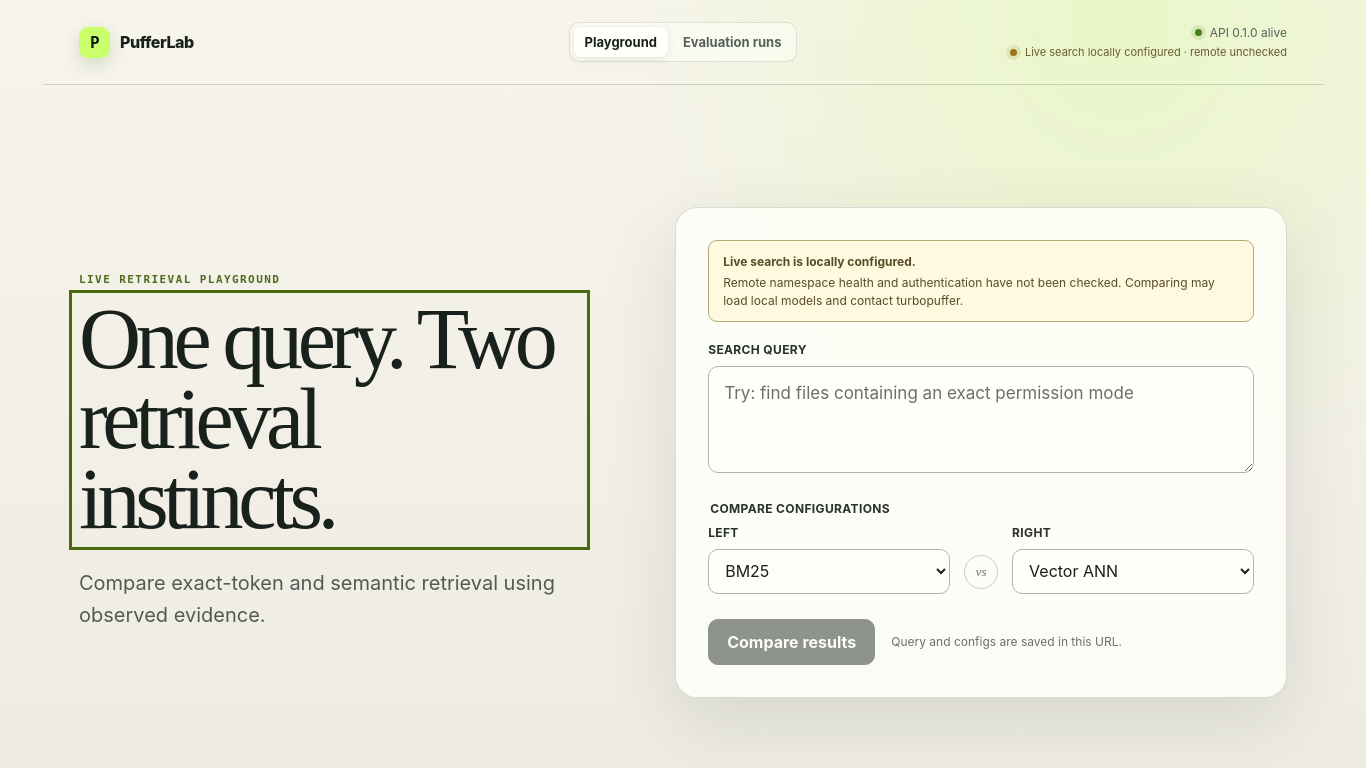
Test: App playground › loads seeded configs and renders typed BM25 and vector evidence
Expected: the heading "One query. Two retrieval instincts." is shown, 79,300 -> 580,540
Expected: the button "Compare results" is disabled, 708,619 -> 875,665
Type "permission mode" into the text box labelled "Search query" at (981, 419), box 708,366 -> 1254,473
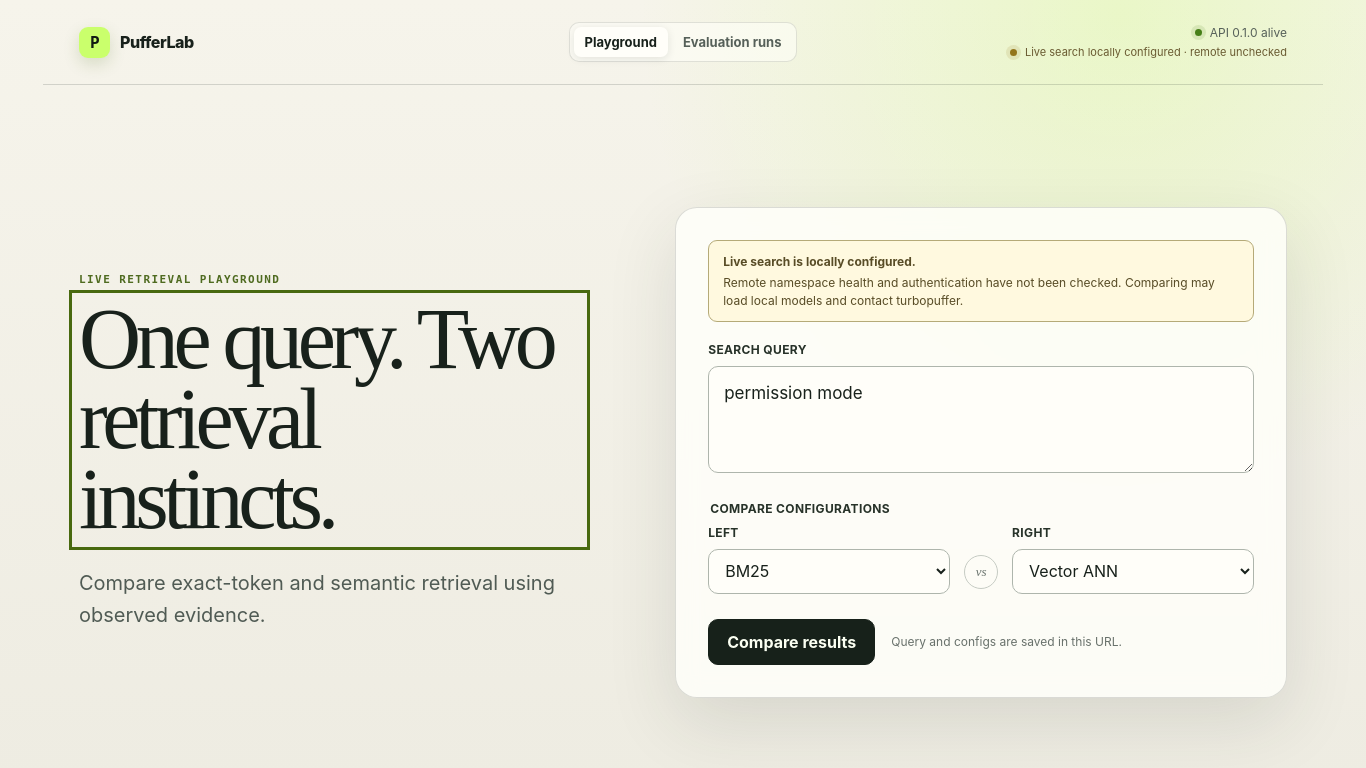
Click the button "Compare results" at (792, 642), box 708,619 -> 875,665
(page scrolled)
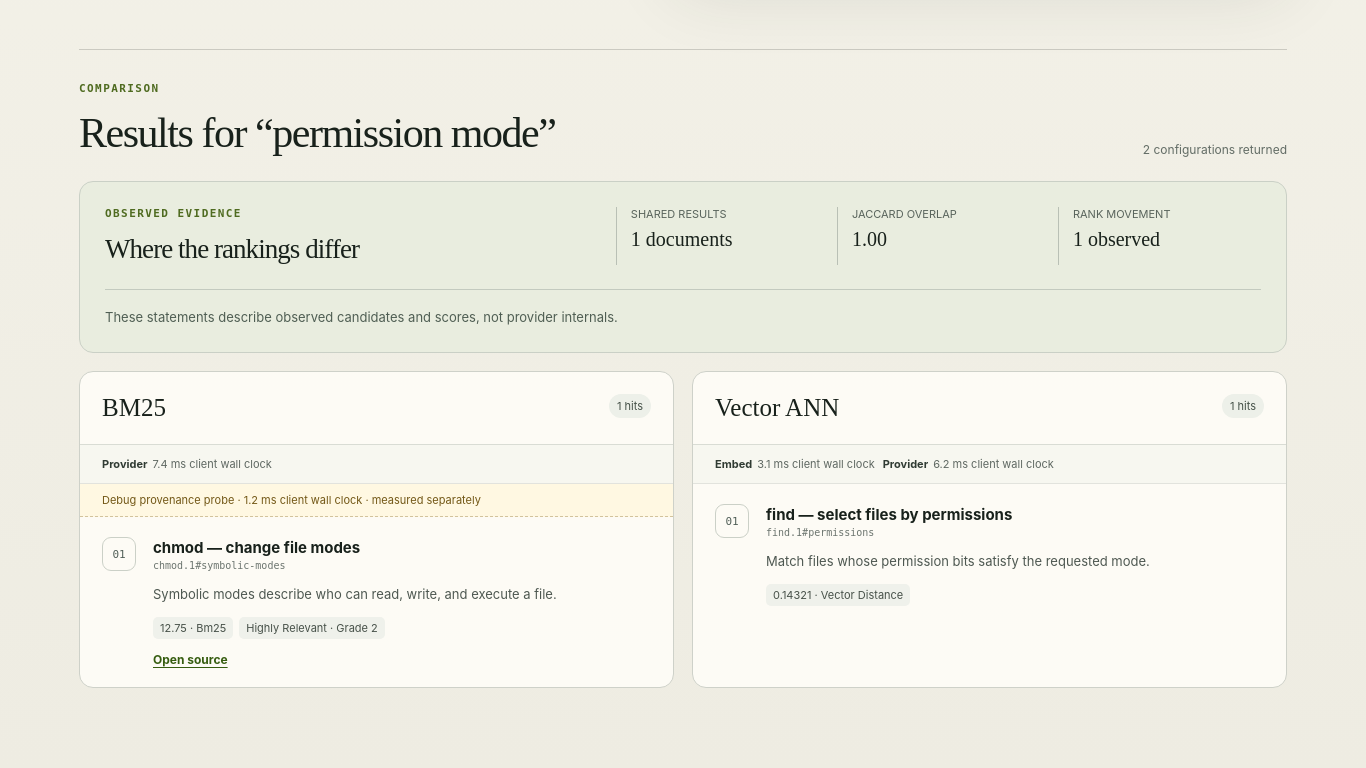
Result: the heading "Results for “permission mode”" is shown at 79,109 -> 556,157
Result: the heading "BM25" is shown at 102,394 -> 166,422
Result: the heading "Vector ANN" is shown at 715,394 -> 839,422
